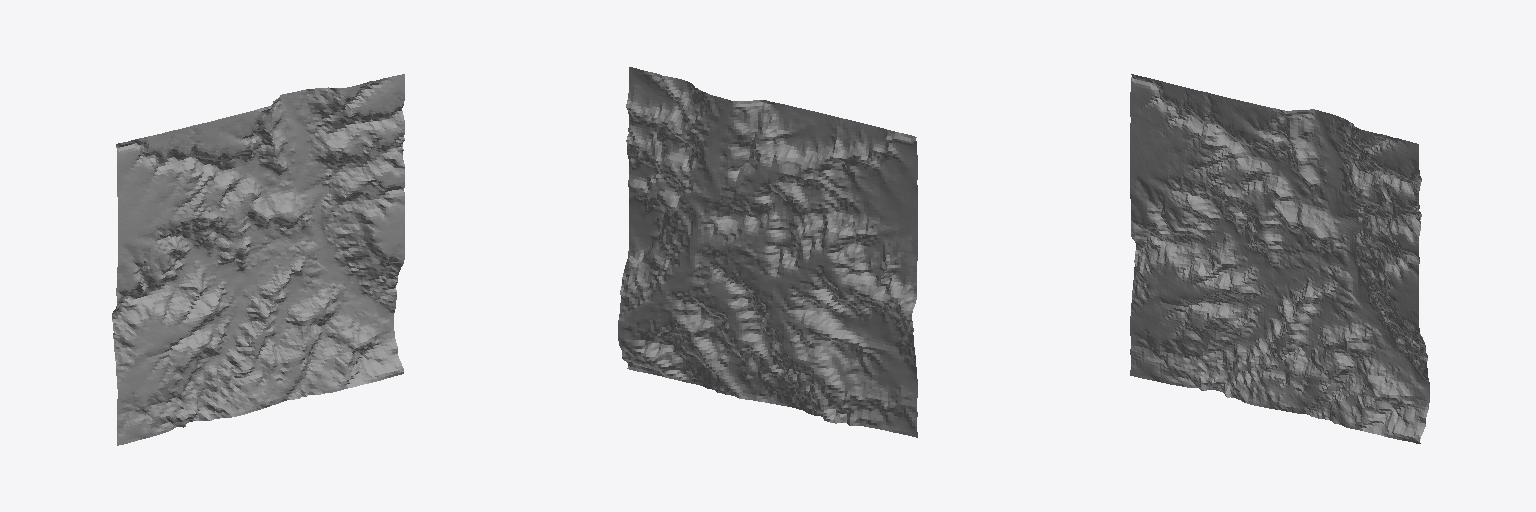
File: terrain_scaled.obj
The picture shows the model from 3 angles: view 1: azimuth 30°, elevation 25°; view 2: azimuth 150°, elevation 25°; view 3: azimuth 330°, elevation 25°; orthographic projection.
Parts seen in each view (by area): view 1: terrain; view 2: terrain; view 3: terrain.
Boxes of the visible parts, x1=… form: terrain: x1=112, y1=74, x2=404, y2=445; terrain: x1=618, y1=67, x2=917, y2=437; terrain: x1=1130, y1=74, x2=1429, y2=443.
Bounding box in the file's own units: 664 × 664 × 47.03.